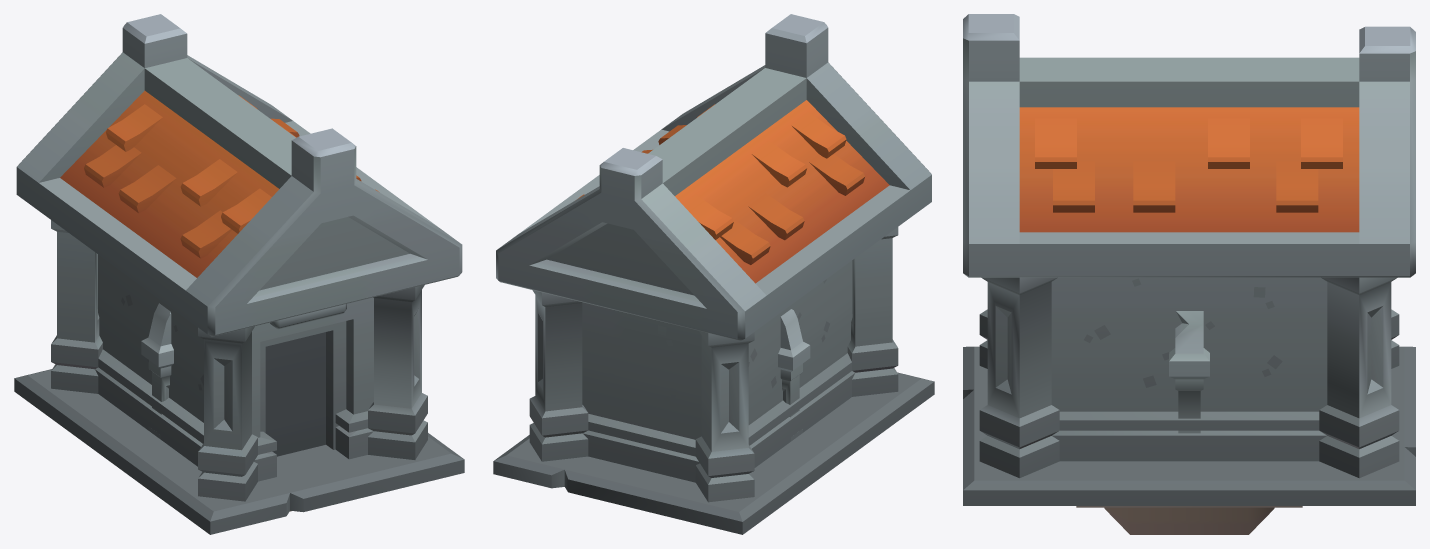
Rendered from kk_halloween.glb.
3 renders of one model, left to right at view 1: azimuth 30°, elevation 25°; view 2: azimuth 150°, elevation 25°; view 3: azimuth 270°, elevation 25°, orthographic. The views are drawn at different scales.
Visible parts, largest first — view 1: crypt, arch; view 2: crypt, arch; view 3: crypt, floor_dirt_grave, arch.
Part boxes in pixels (x1=…): crypt: x1=14, y1=14, x2=464, y2=534; arch: x1=141, y1=303, x2=173, y2=439; crypt: x1=493, y1=14, x2=934, y2=534; arch: x1=778, y1=309, x2=810, y2=441; crypt: x1=963, y1=14, x2=1415, y2=505; floor_dirt_grave: x1=1076, y1=506, x2=1302, y2=534; arch: x1=1169, y1=311, x2=1209, y2=433.
Size of the model in its own units: 6 by 9.5 by 8.
Materials: 1 (1 with a texture image).
